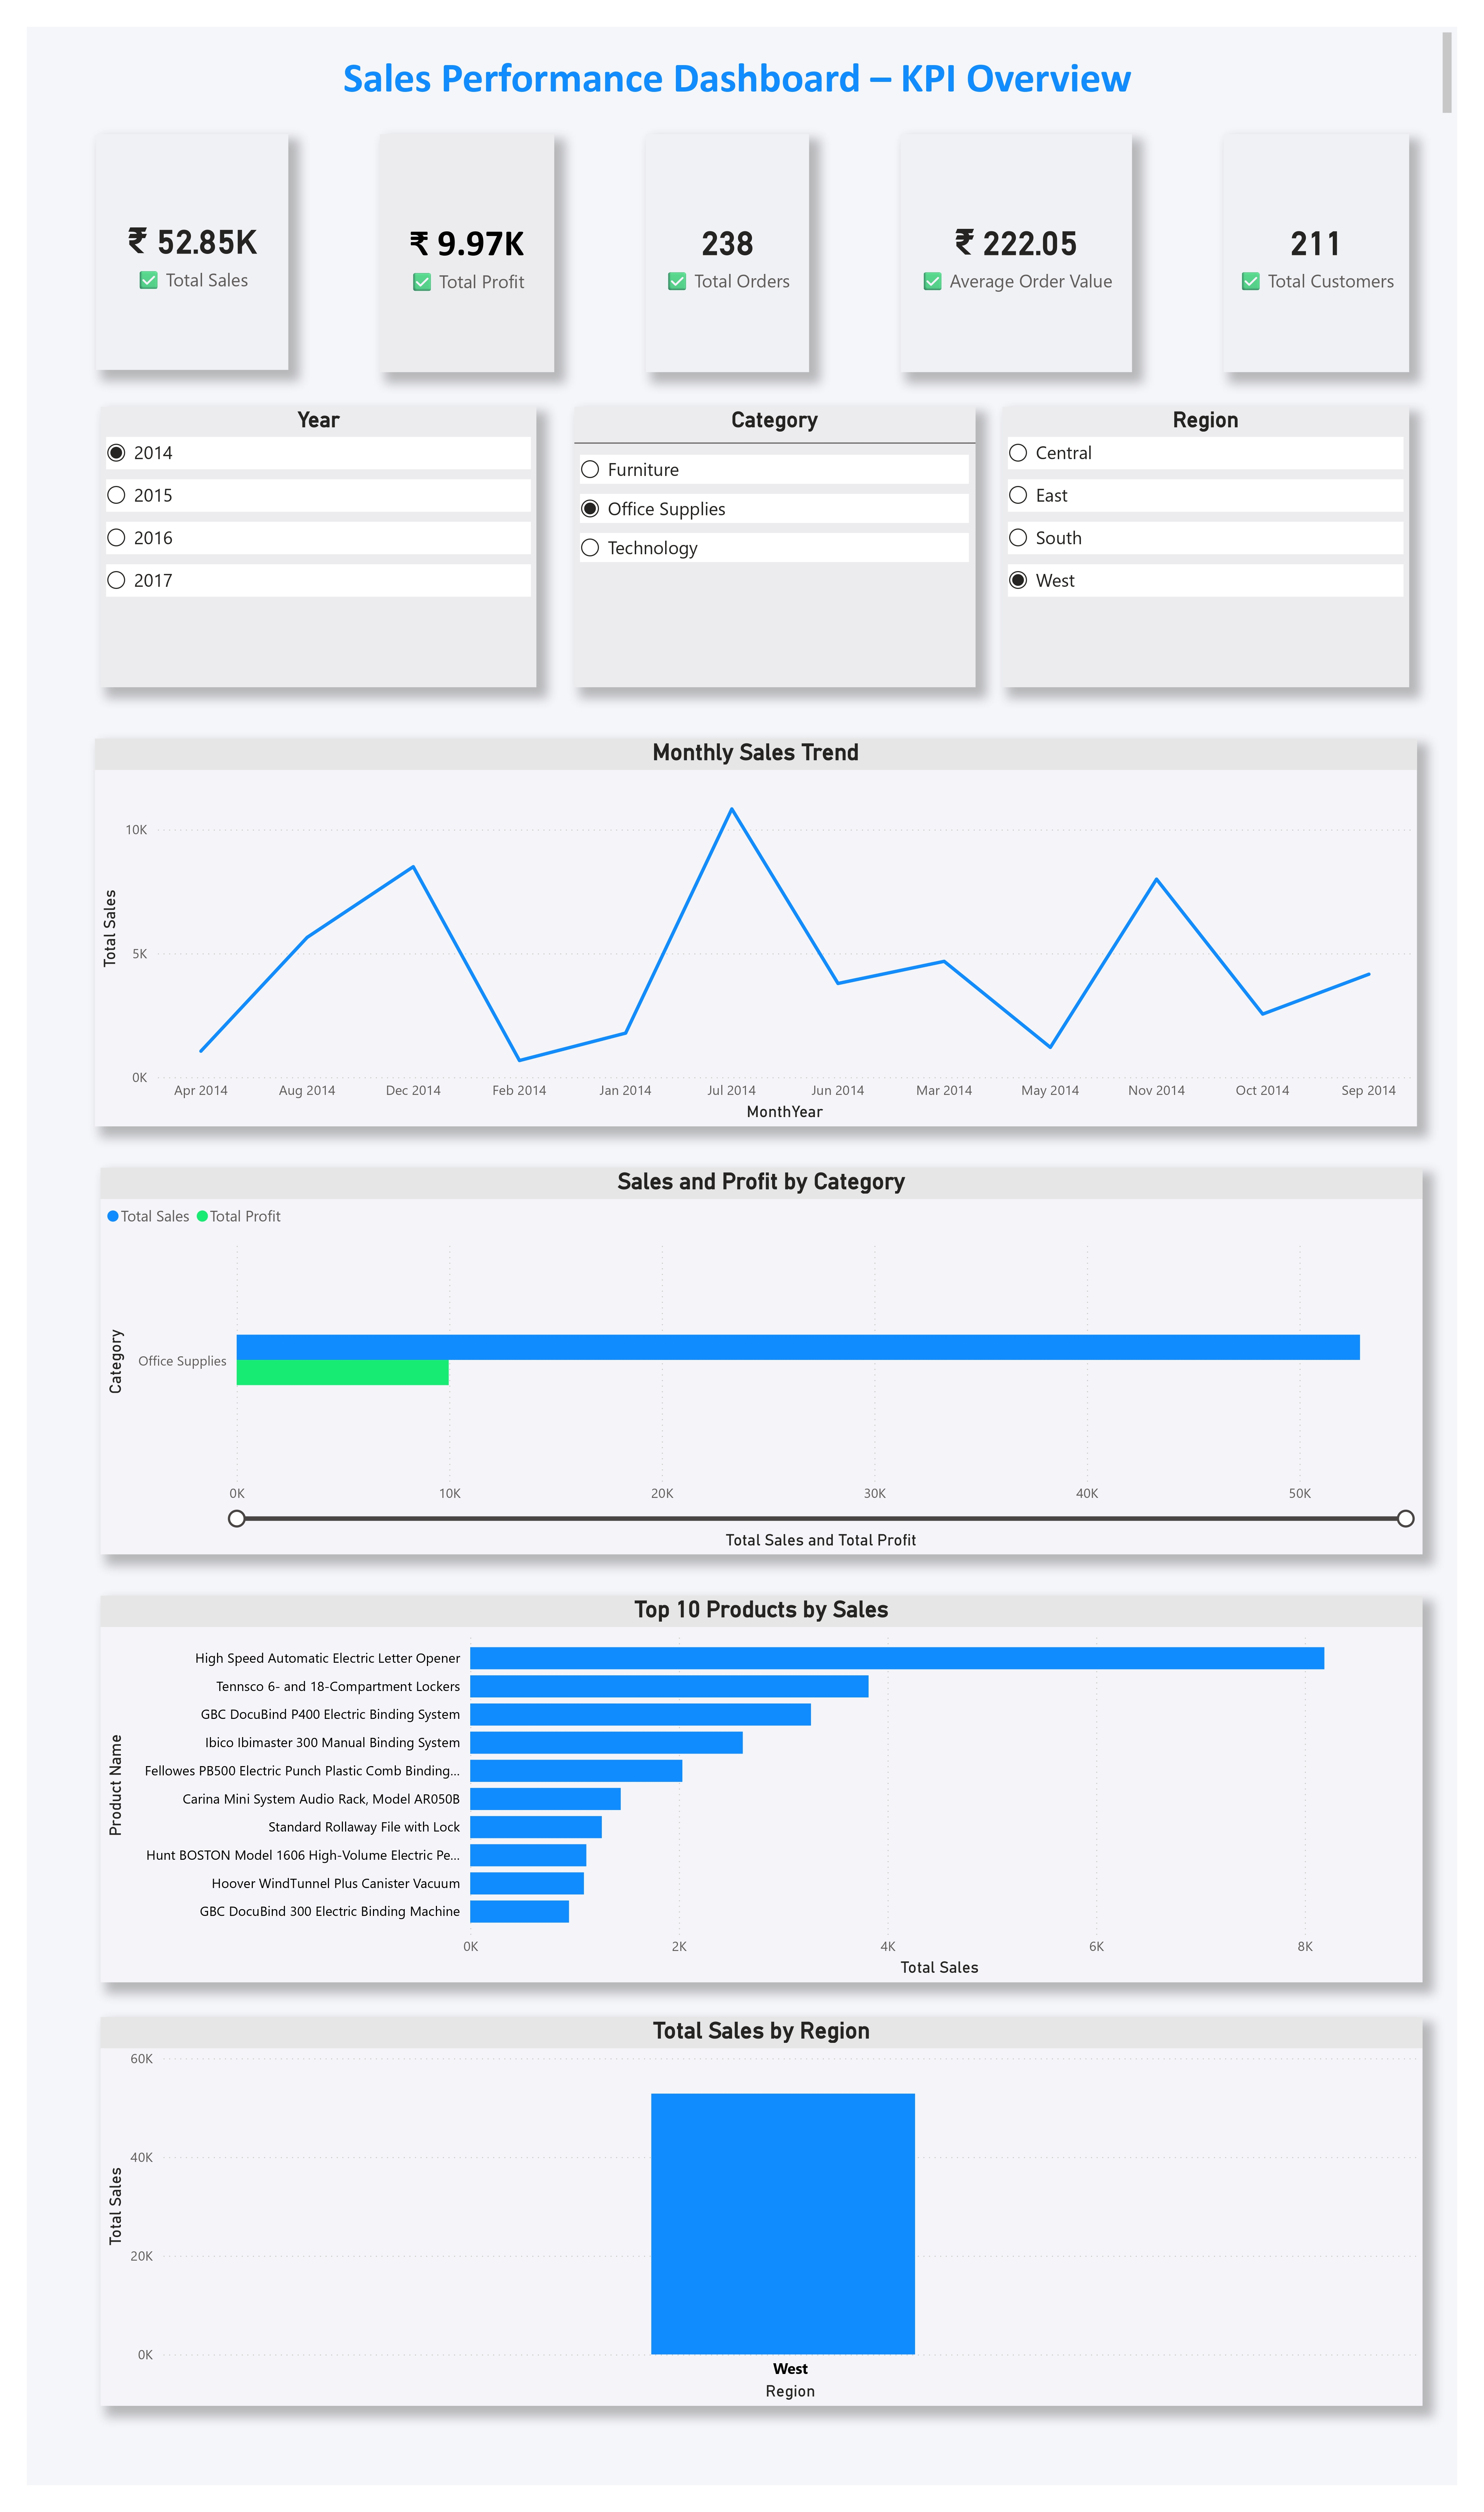

The dashboard page shown, as its layout file describes it:
{"tool":"powerbi","page":{"name":"Page 1","canvas":[1280,2200],"ordinal":0},"visuals":[{"type":"card","fields":{"Values":["Orders.Total Sales"]},"box":[61.6,96,172.3,210.6],"z":0},{"type":"card","fields":{"Values":["Orders.Total Profit"]},"box":[316,96,155.9,213.4],"z":1000},{"type":"card","fields":{"Values":["Orders.Total Orders"]},"box":[554,96,146.4,213.4],"z":2000},{"type":"card","fields":{"Values":["Orders.Total Customers"]},"box":[1071,96,165.5,213.4],"z":3000},{"type":"card","fields":{"Values":["Orders.AOV"]},"box":[782.4,96,206.5,213.4],"z":4000},{"type":"textbox","box":[0,0,1248.6,85.7],"z":5000},{"type":"lineChart","title":"Monthly Sales Trend","fields":{"Category":["Orders.MonthYear"],"Y":["Orders.Total Sales"]},"box":[61.4,637.1,1182.9,347.1],"z":6000},{"type":"clusteredBarChart","title":"Sales and Profit by Category","fields":{"Category":["Orders.Category"],"Y":["Orders.Total Sales","Orders.Total Profit"]},"box":[65.7,1021.4,1182.9,345.7],"z":7000},{"type":"clusteredBarChart","title":"Top 10 Products by Sales","fields":{"Category":["Orders.Product Name"],"Y":["Orders.Total Sales"]},"box":[65.7,1404.3,1182.9,345.7],"z":8000},{"type":"clusteredColumnChart","fields":{"Category":["Orders.Region"],"Y":["Orders.Total Sales"]},"box":[65.7,1781.4,1182.9,347.1],"z":9000},{"type":"listSlicer","title":"Year","fields":{"Values":["Orders.Year"]},"box":[65.7,340,390,251.4],"z":10000},{"type":"listSlicer","fields":{"Values":["Orders.Category"]},"box":[490,340,358.6,251.4],"z":11000},{"type":"listSlicer","fields":{"Values":["Orders.Region"]},"box":[872.9,340,364.3,251.4],"z":12000}]}

Visuals, with their boxes in screenshot pixels (x1, y1, x2, y2):
card - Orders.Total Sales: (left=96, top=134, right=288, bottom=369)
card - Orders.Total Profit: (left=380, top=134, right=554, bottom=373)
card - Orders.Total Orders: (left=646, top=134, right=810, bottom=373)
card - Orders.Total Customers: (left=1224, top=134, right=1409, bottom=373)
card - Orders.AOV: (left=901, top=134, right=1132, bottom=373)
textbox: (left=27, top=27, right=1422, bottom=123)
"Monthly Sales Trend" lineChart: (left=95, top=739, right=1417, bottom=1127)
"Sales and Profit by Category" clusteredBarChart: (left=100, top=1168, right=1422, bottom=1554)
"Top 10 Products by Sales" clusteredBarChart: (left=100, top=1596, right=1422, bottom=1982)
clusteredColumnChart - Orders.Region x Orders.Total Sales: (left=100, top=2017, right=1422, bottom=2405)
"Year" listSlicer: (left=100, top=407, right=536, bottom=688)
listSlicer - Orders.Category: (left=574, top=407, right=975, bottom=688)
listSlicer - Orders.Region: (left=1002, top=407, right=1409, bottom=688)
